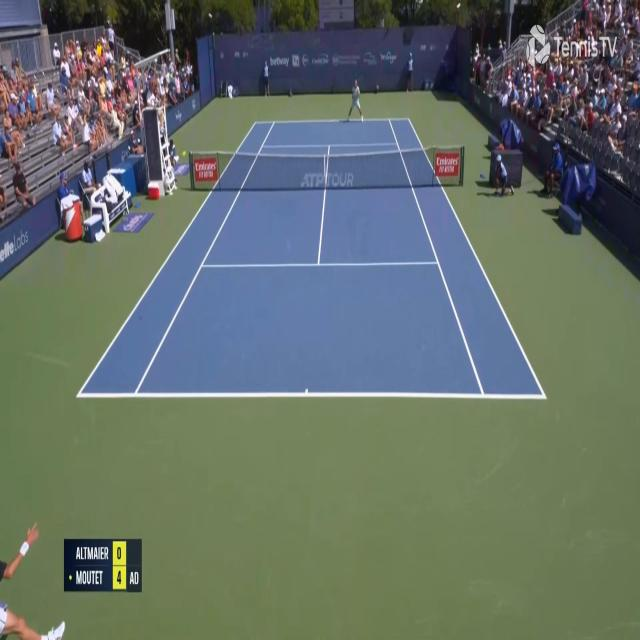tennis-player: (0, 512, 46, 638), (346, 78, 364, 124)
